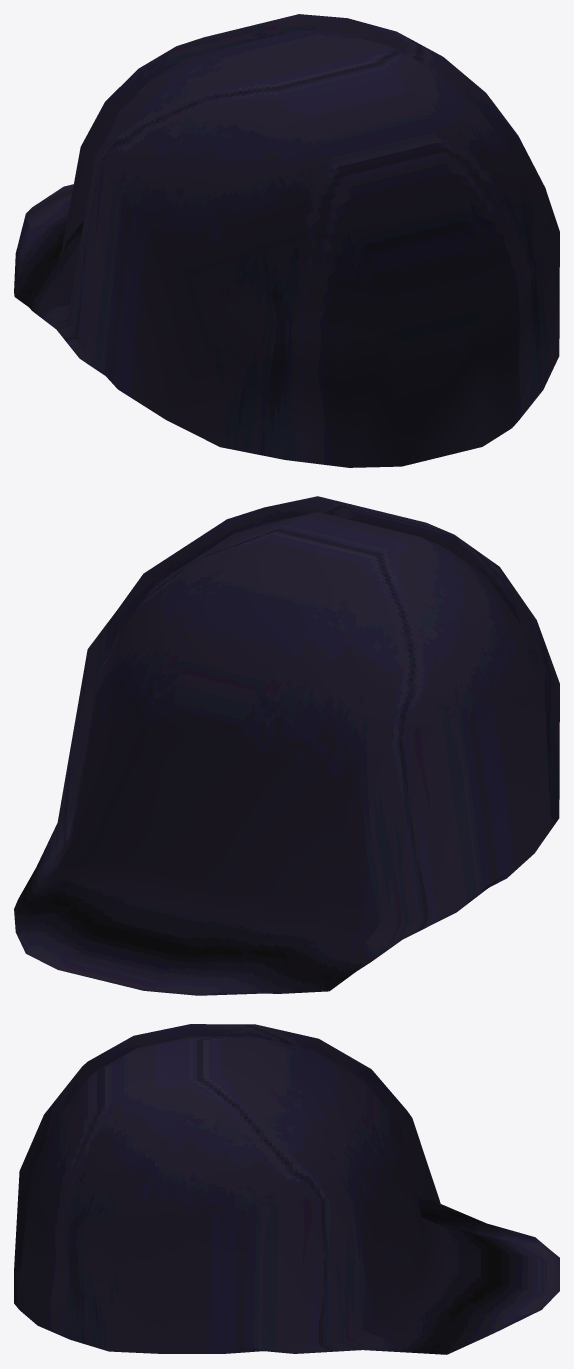
File: ps2_save-icons_mezasemeimonyakyuubu2.glb
The picture shows the model from 3 angles, top to bottom: view 1: azimuth 30°, elevation 25°; view 2: azimuth 150°, elevation 25°; view 3: azimuth 270°, elevation 25°; orthographic projection. The views are drawn at different scales.
Visible parts, largest first — view 1: MY2.ICO; view 2: MY2.ICO; view 3: MY2.ICO.
Part boxes in pixels (x1,y1,x2,y2): MY2.ICO: (14,14,559,467); MY2.ICO: (14,496,559,995); MY2.ICO: (14,1024,559,1354).
Bounding box in the file's own units: 3.29 × 2.45 × 4.91.
1 material, 1 textured.
